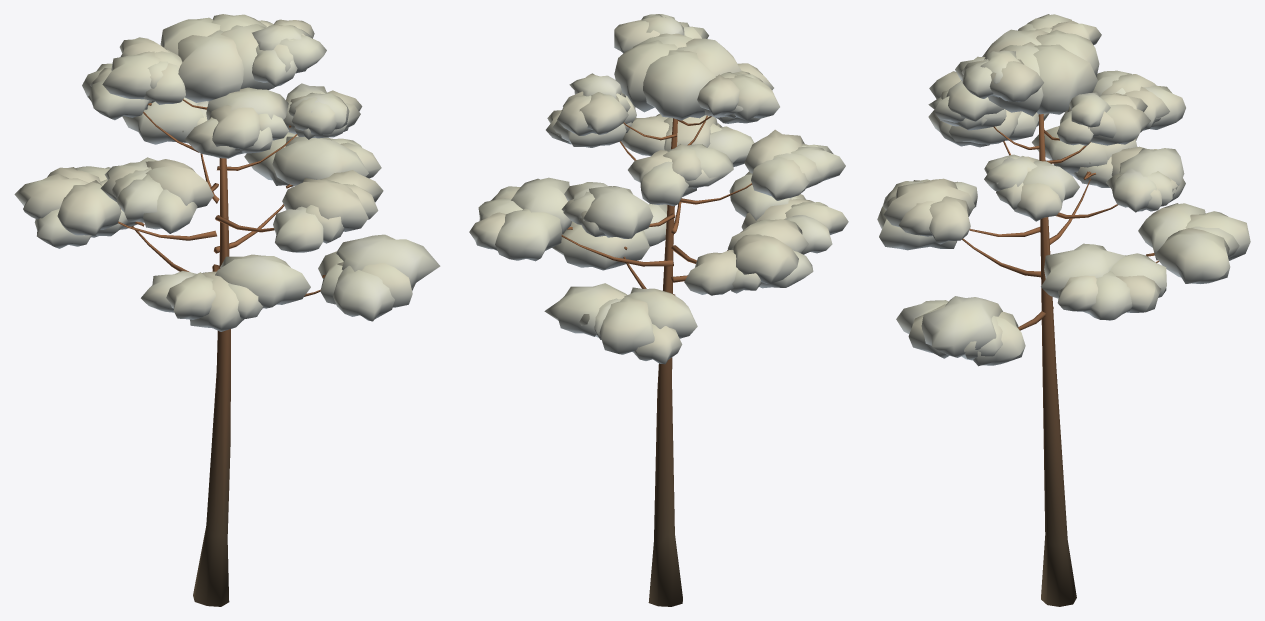
3 renders of one model, left to right at view 1: azimuth 30°, elevation 25°; view 2: azimuth 150°, elevation 25°; view 3: azimuth 270°, elevation 25°, orthographic. The views are drawn at different scales.
Visible parts, largest first — view 1: crown, trunk; view 2: crown, trunk; view 3: crown, trunk.
Boxes of the visible parts, x1,y1,x2,y2 form: crown: (14,14,440,331); trunk: (118,99,325,606); crown: (469,14,848,364); trunk: (561,115,752,606); crown: (877,14,1250,366); trunk: (962,114,1158,606).
Size of the model in its own units: 10.11 by 16.59 by 9.97.
